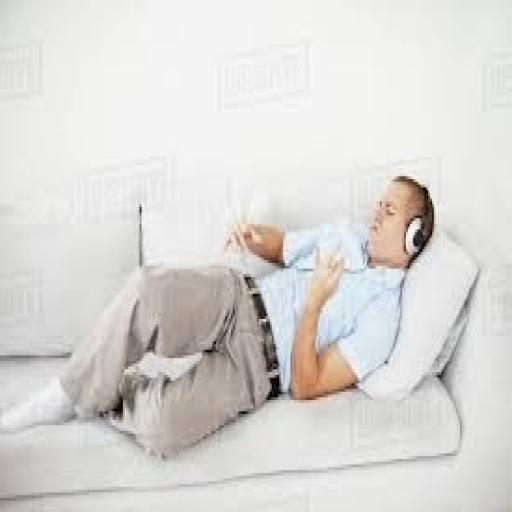listening_to_music: (0, 170, 438, 462)
